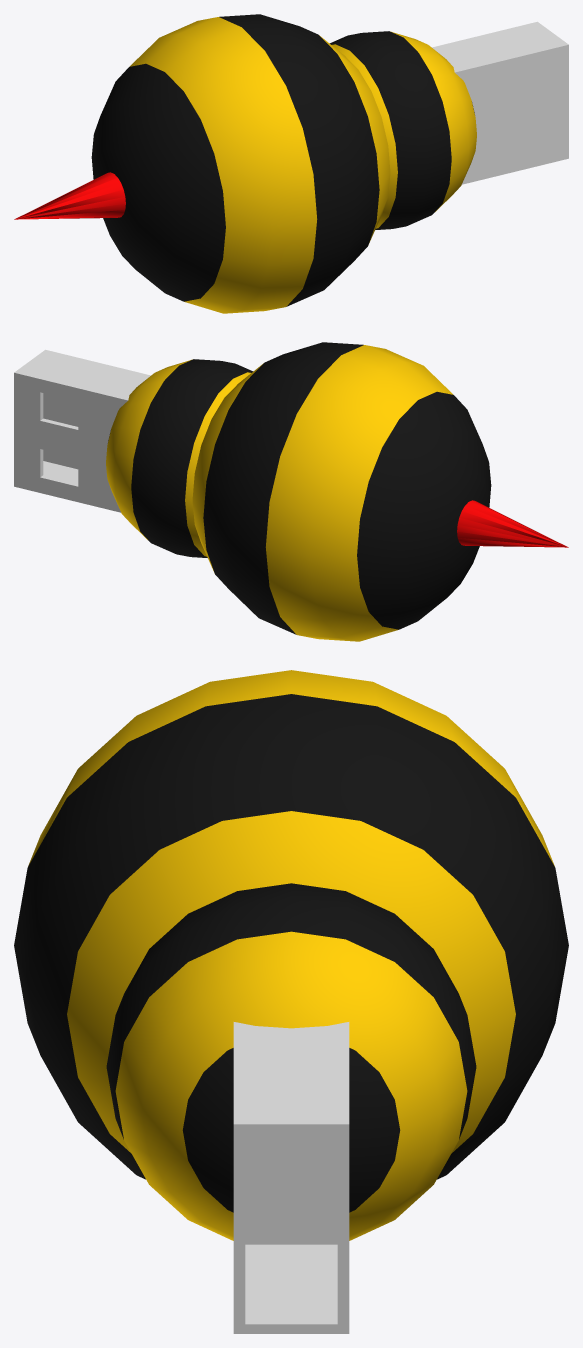
Rendered from USBEE.FBX.
The picture shows the model from 3 angles, top to bottom: view 1: azimuth 30°, elevation 25°; view 2: azimuth 150°, elevation 25°; view 3: azimuth 270°, elevation 25°; orthographic projection. The views are drawn at different scales.
Parts seen in each view (by area): view 1: Sphere001, Sphere002, USB001, Cylinder001; view 2: Sphere001, Sphere002, USB001, Cylinder001; view 3: Sphere001, Sphere002, USB001.
Boxes of the visible parts, x1,y1,x2,y2 form: Sphere001: (91,14,390,313); Sphere002: (330,31,476,229); USB001: (432,21,568,184); Cylinder001: (14,172,125,219); Sphere001: (192,342,491,641); Sphere002: (106,359,252,557); USB001: (14,349,150,512); Cylinder001: (457,500,568,547); Sphere001: (14,670,568,1179); Sphere002: (106,883,476,1240); USB001: (233,1022,349,1333).
Size of the model in its own units: 9.9 by 4.8 by 4.8.
